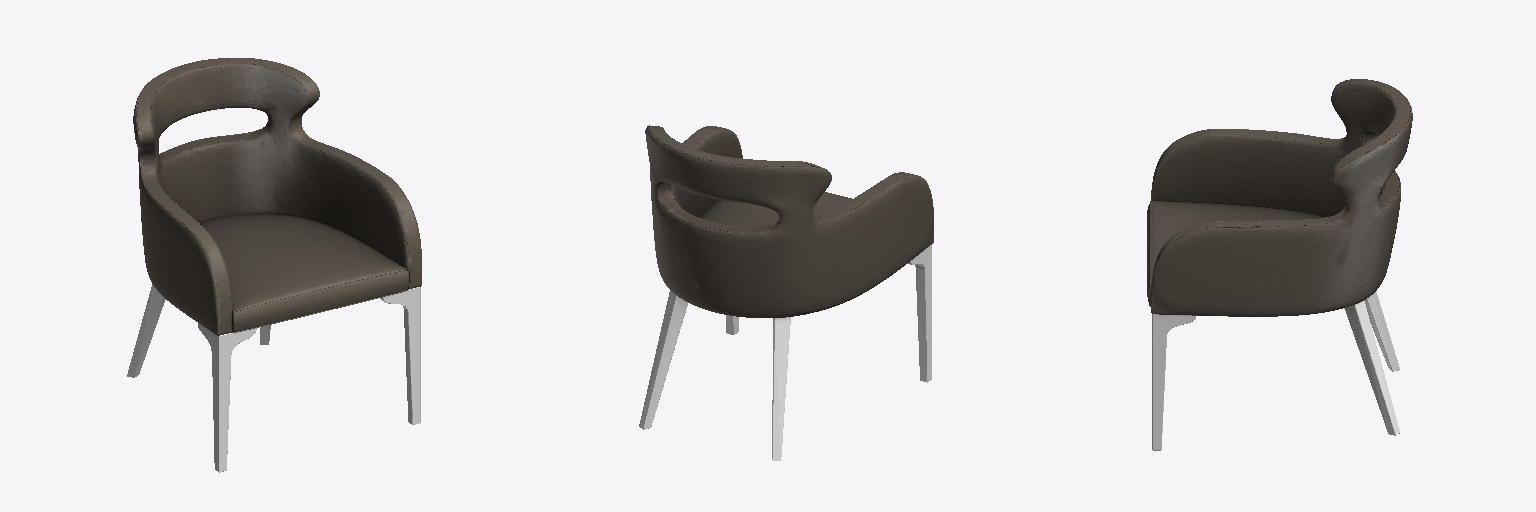
3 views of the same model, side by side, from view 1: azimuth 30°, elevation 25°; view 2: azimuth 150°, elevation 25°; view 3: azimuth 270°, elevation 25° (orthographic).
Parts seen in each view (by area): view 1: solid_001, solid_002; view 2: solid_001, solid_002; view 3: solid_001, solid_002.
Boxes of the visible parts, x1,y1,x2,y2 form: solid_001: [133, 58, 421, 335]; solid_002: [127, 284, 420, 472]; solid_001: [645, 125, 933, 317]; solid_002: [639, 245, 931, 460]; solid_001: [1147, 79, 1412, 316]; solid_002: [1152, 292, 1399, 450].
Size of the model in its own units: 1.07 by 1.42 by 1.17.
1 materials, 1 textured.